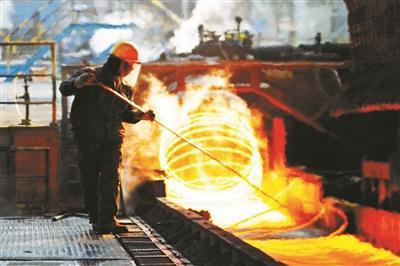helmet: (108, 38, 143, 75)
